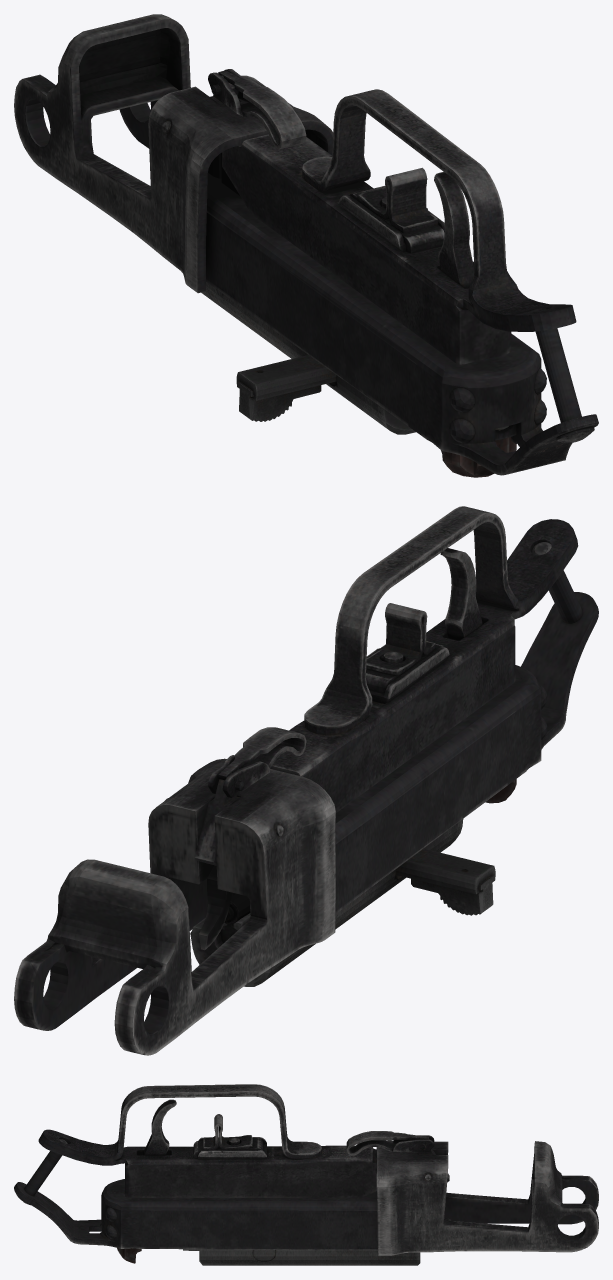
3 renders of one model, top to bottom at view 1: azimuth 30°, elevation 25°; view 2: azimuth 150°, elevation 25°; view 3: azimuth 270°, elevation 25°, orthographic. The views are drawn at different scales.
Parts seen in each view (by area): view 1: TW_5ea03f7400685063ec28bfa8_PZ_Import; view 2: TW_5ea03f7400685063ec28bfa8_PZ_Import; view 3: TW_5ea03f7400685063ec28bfa8_PZ_Import.
Boxes of the visible parts, bbox=[...] form: TW_5ea03f7400685063ec28bfa8_PZ_Import: bbox=[14, 14, 598, 477]; TW_5ea03f7400685063ec28bfa8_PZ_Import: bbox=[14, 506, 598, 1055]; TW_5ea03f7400685063ec28bfa8_PZ_Import: bbox=[14, 1084, 598, 1265].
Size of the model in its own units: 0.0374 by 0.1739 by 0.0566.
1 material, 1 textured.
